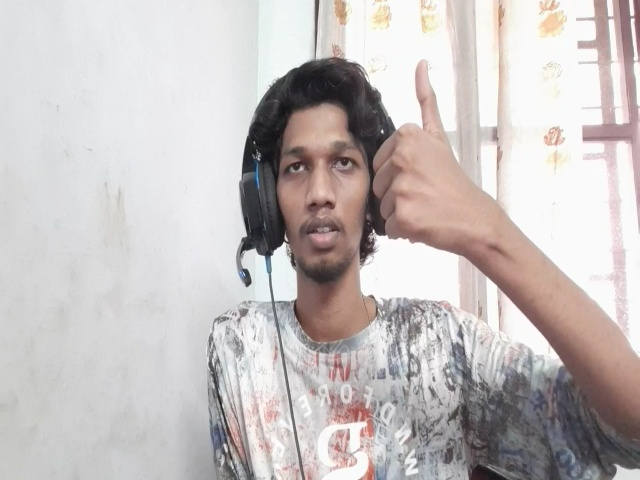ThumbsUp: (373, 59, 490, 249)
